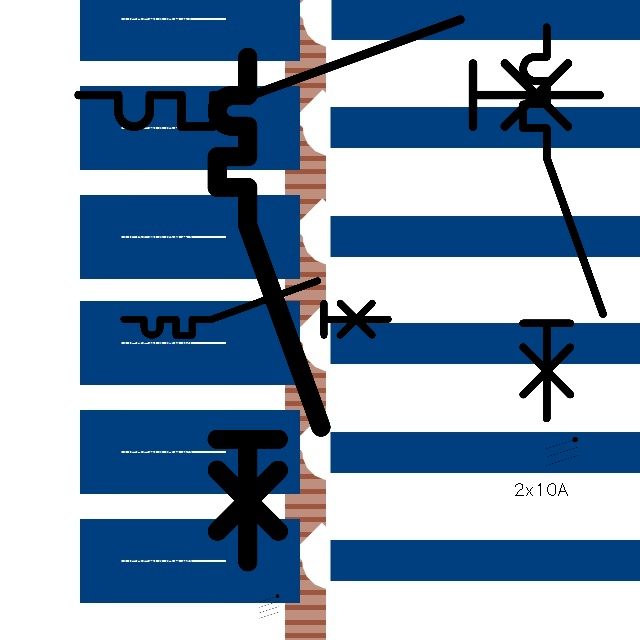interruptor_termomagnetico: (65, 6, 613, 140), (204, 44, 334, 575), (513, 17, 613, 428), (117, 274, 395, 342)
